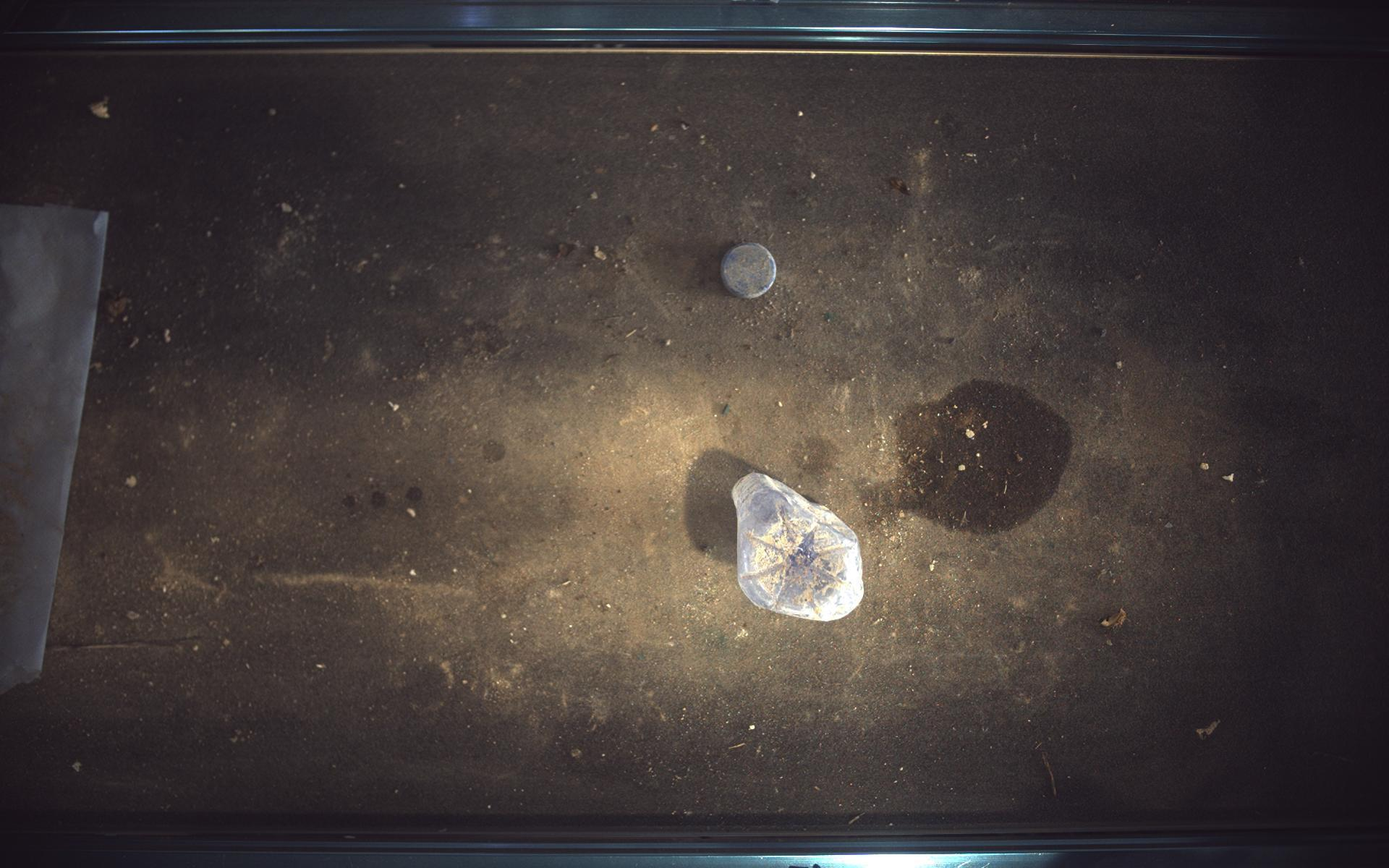general_w: (733, 473, 865, 622), (723, 243, 778, 298)
